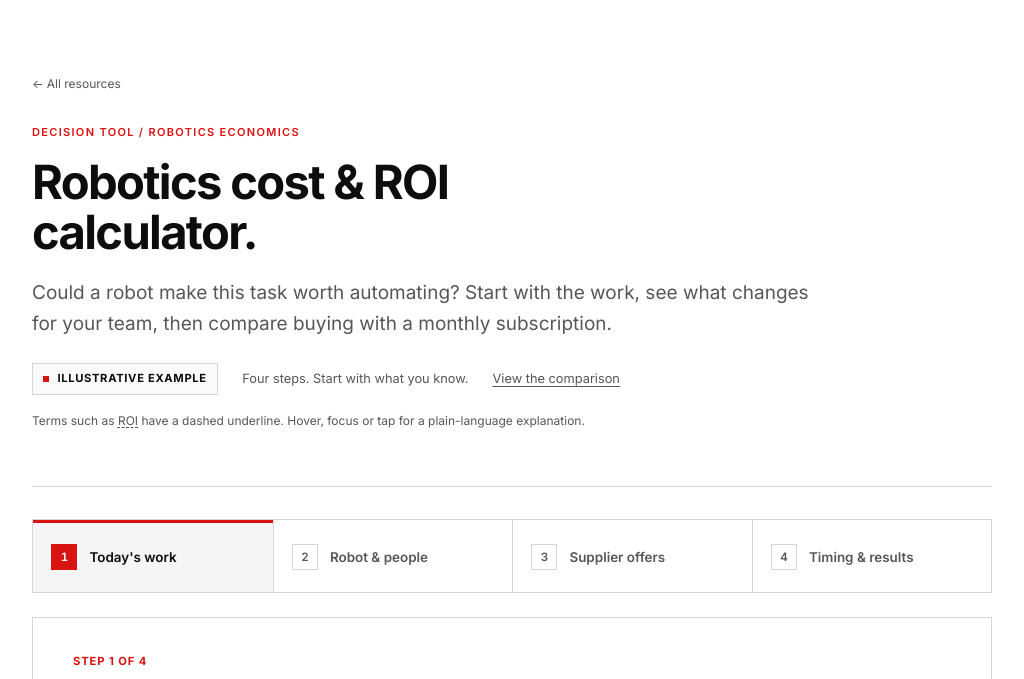
it: Guided robotics cost and ROI calculator › requires explicit renewal for 60 months without automatically extending the quoted contract
Click the button "4 Timing & results". click: [872, 556]
box: [752,520,991,592]
(page scrolled)
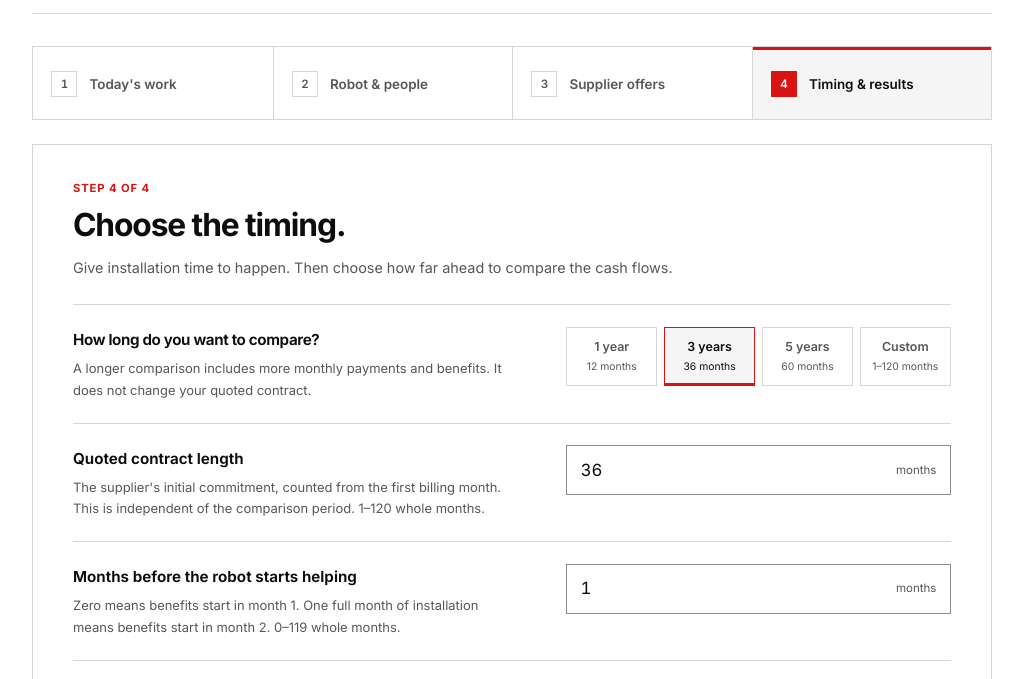
Click the button "5 years 60 months". click: [807, 356]
box: [762,327,853,386]
(page scrolled)
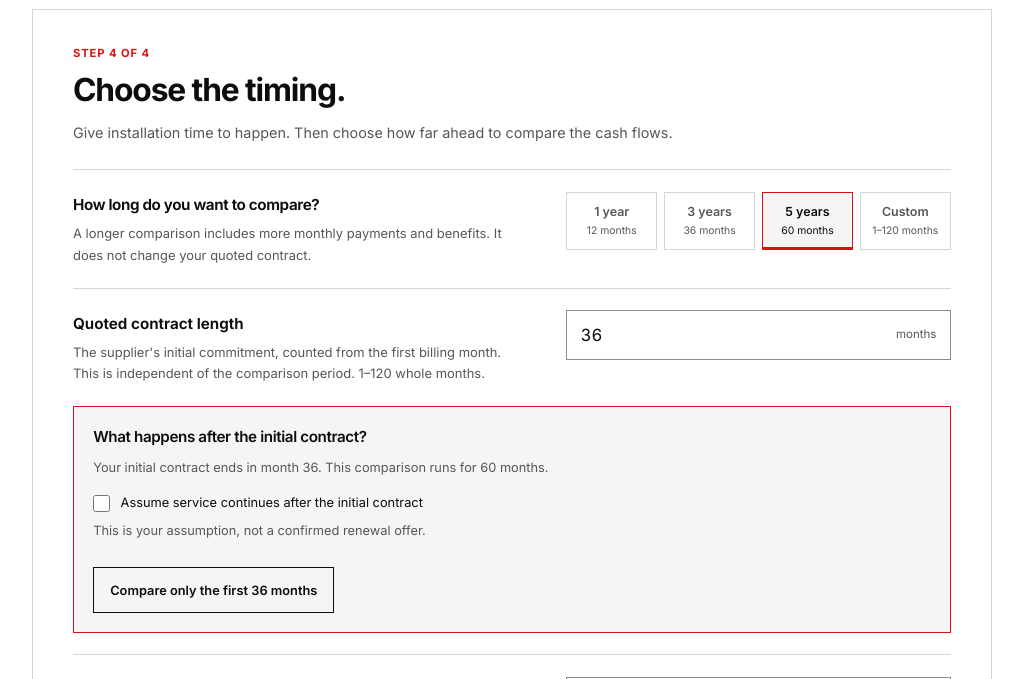
Check: the field labelled "Quoted contract length" holds "36", box [567,311,896,359]
Check: the checkbox labelled "Assume service continues after the initial contract" is not checked
Click the checkbox labelled "Assume service continues after the initial contract". click: [102, 503]
box: [93,494,110,512]
(page scrolled)
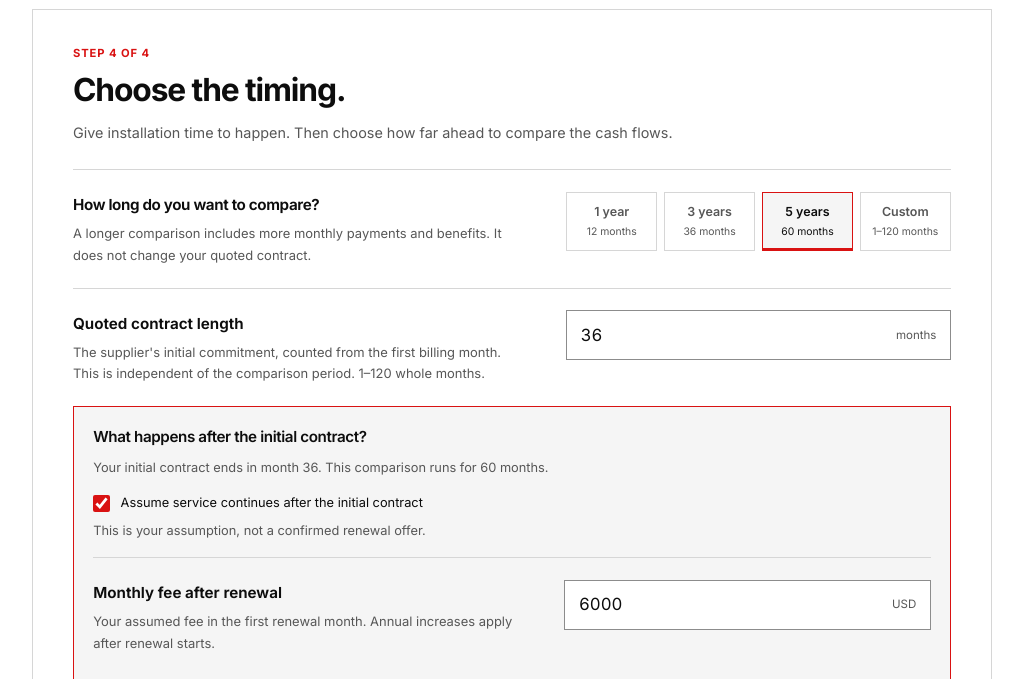
Check: the field labelled "Quoted contract length" holds "36", box [567,312,896,359]
Check: the text "This is your assumption, not a confirmed renewal offer." is shown, box [93,523,426,538]
Check: the field labelled "Monthly fee after renewal" holds "6000", box [565,581,892,628]
